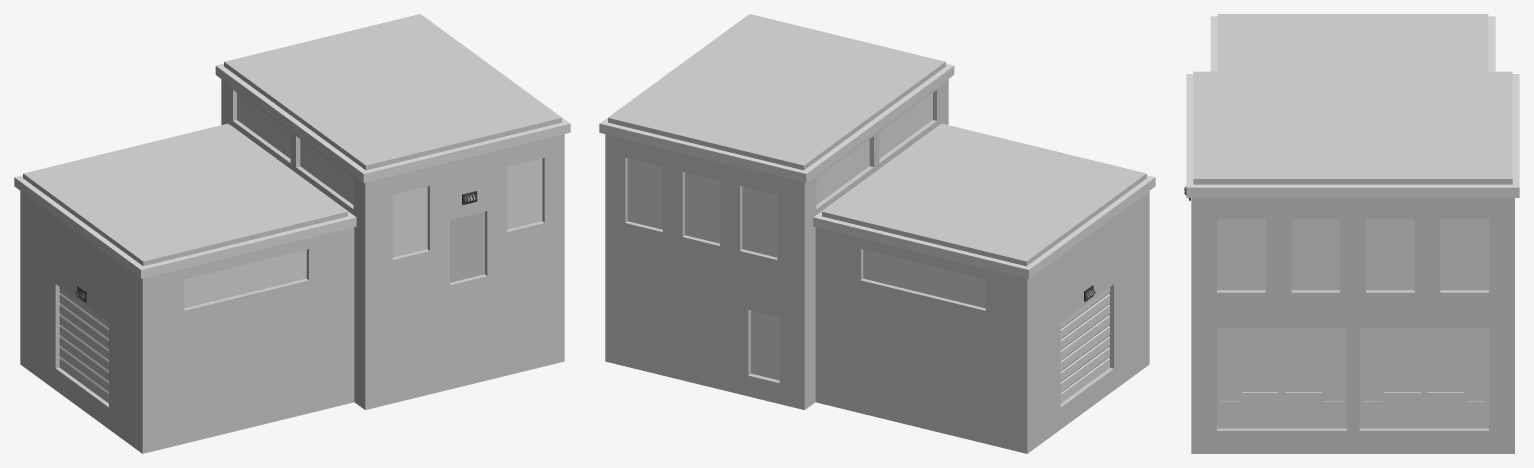
The model's file is build4_LOD1.fbx.
3 renders of one model, left to right at view 1: azimuth 30°, elevation 25°; view 2: azimuth 150°, elevation 25°; view 3: azimuth 270°, elevation 25°, orthographic. The views are drawn at different scales.
Visible parts, largest first — view 1: polySurface402; view 2: polySurface402; view 3: polySurface402.
Boxes of the visible parts, x1,y1,x2,y2 form: polySurface402: [14, 14, 570, 453]; polySurface402: [599, 14, 1155, 453]; polySurface402: [1184, 14, 1519, 453].
Size of the model in its own units: 16.1 by 8.94 by 9.93.
